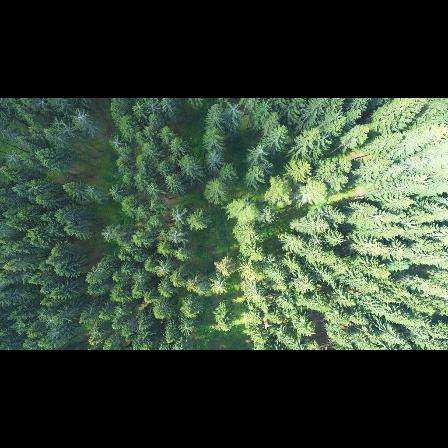Sick: (223, 101, 244, 120), (71, 109, 93, 126), (210, 278, 229, 296), (253, 141, 271, 158), (173, 205, 189, 223), (108, 134, 125, 150), (132, 270, 150, 285), (155, 262, 172, 276), (103, 227, 116, 242), (44, 316, 57, 329)
